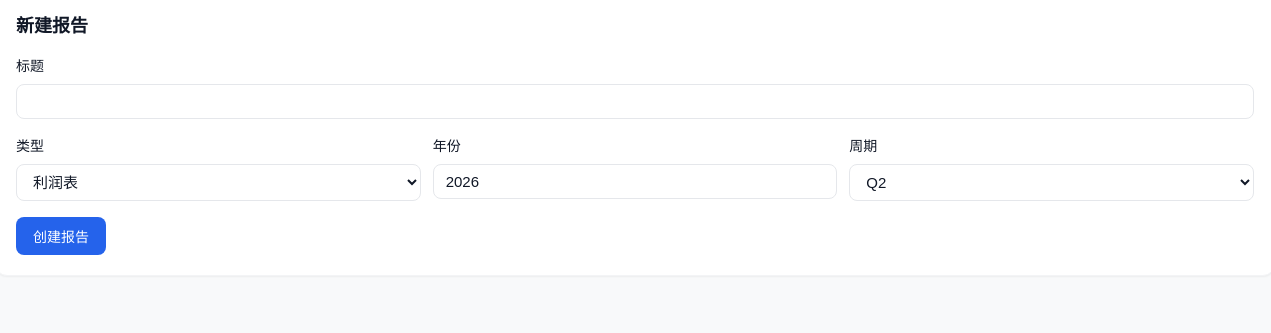
Scenario: ReportCreate › shows error when creation fails
The width and height of the screenshot is (1271, 333).
Type "Q1 报告" into the field. click: (635, 102)
box: [16, 84, 1254, 119]
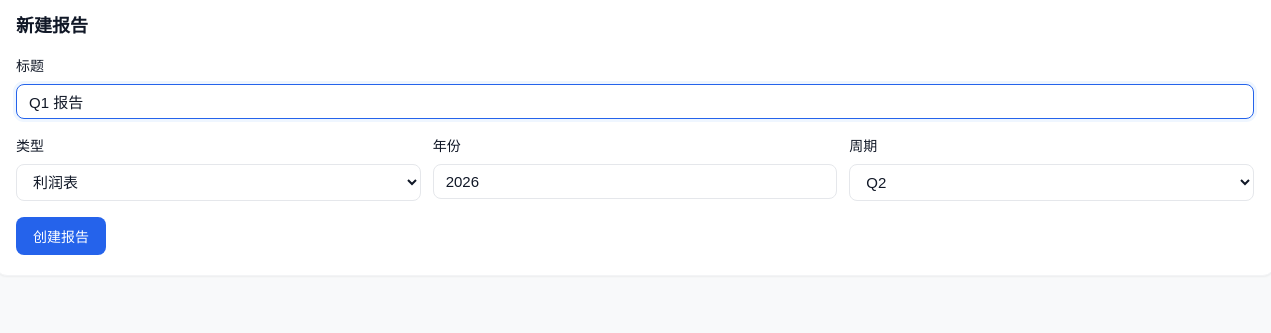
Click the button "创建报告". click: click(61, 236)
box: [16, 217, 106, 255]
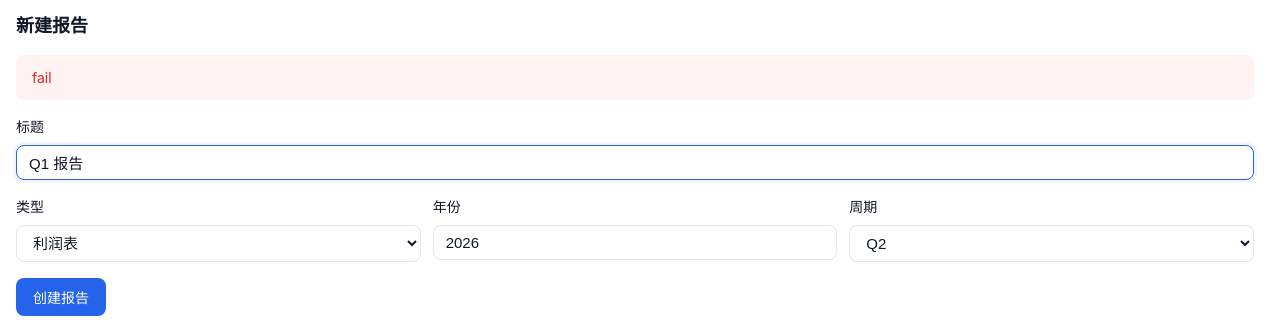
Now the text "fail" is shown, box [16, 55, 1254, 100]
